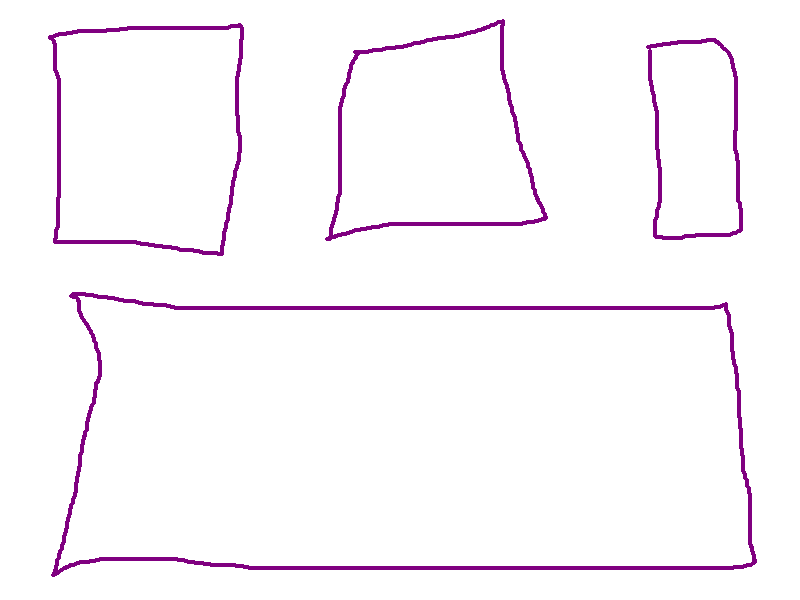rect: (48, 287, 760, 581), (324, 14, 554, 247), (47, 17, 246, 263), (641, 33, 749, 244)
